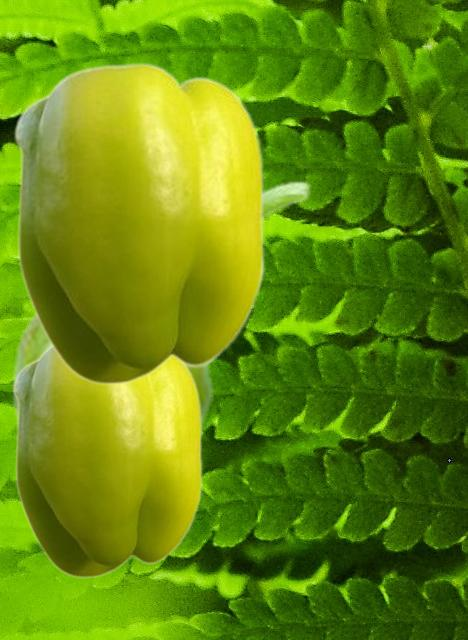bell_pepper: (13, 61, 263, 384), (12, 345, 201, 577), (10, 308, 214, 441), (190, 179, 311, 368)
